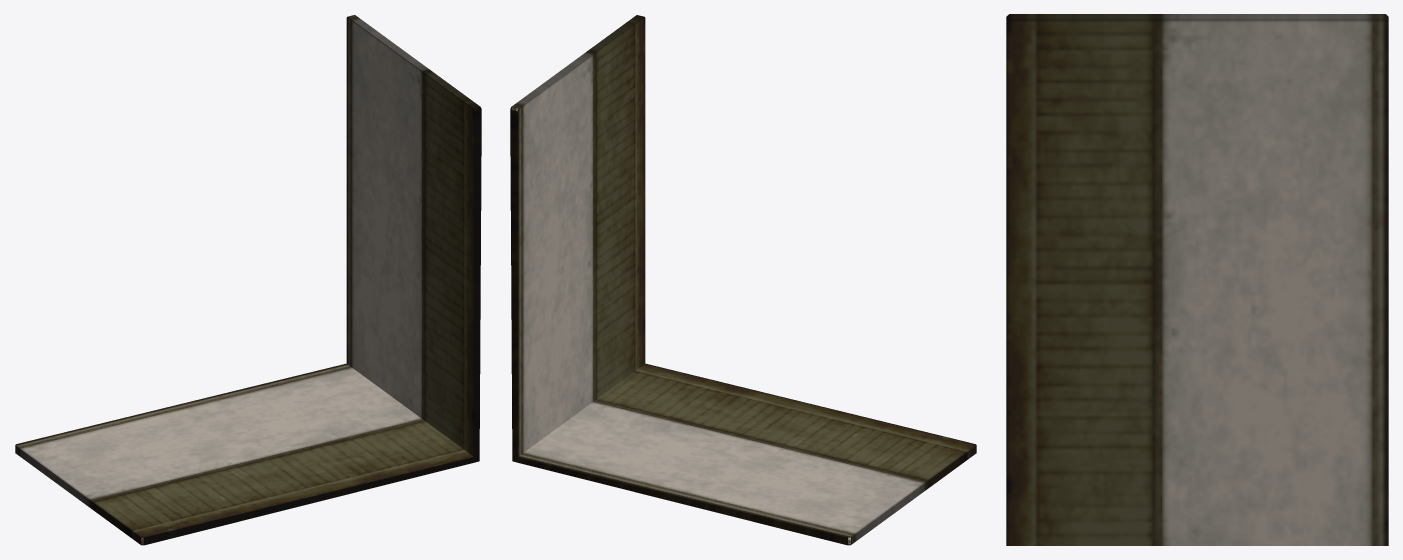
File: SM_EC_House_Wall_9x3_Bend_1.fbx
The picture shows the model from 3 angles, left to right: view 1: azimuth 30°, elevation 25°; view 2: azimuth 150°, elevation 25°; view 3: azimuth 270°, elevation 25°; orthographic projection. The views are drawn at different scales.
Parts seen in each view (by area): view 1: SM_EC_House_Wall_9x3_Bend_1; view 2: SM_EC_House_Wall_9x3_Bend_1; view 3: SM_EC_House_Wall_9x3_Bend_1.
Boxes of the visible parts, bbox=[...] form: SM_EC_House_Wall_9x3_Bend_1: bbox=[15, 15, 481, 545]; SM_EC_House_Wall_9x3_Bend_1: bbox=[510, 15, 976, 545]; SM_EC_House_Wall_9x3_Bend_1: bbox=[1006, 14, 1388, 545].
Bounding box in the file's own units: 4.6 × 3 × 4.6.
